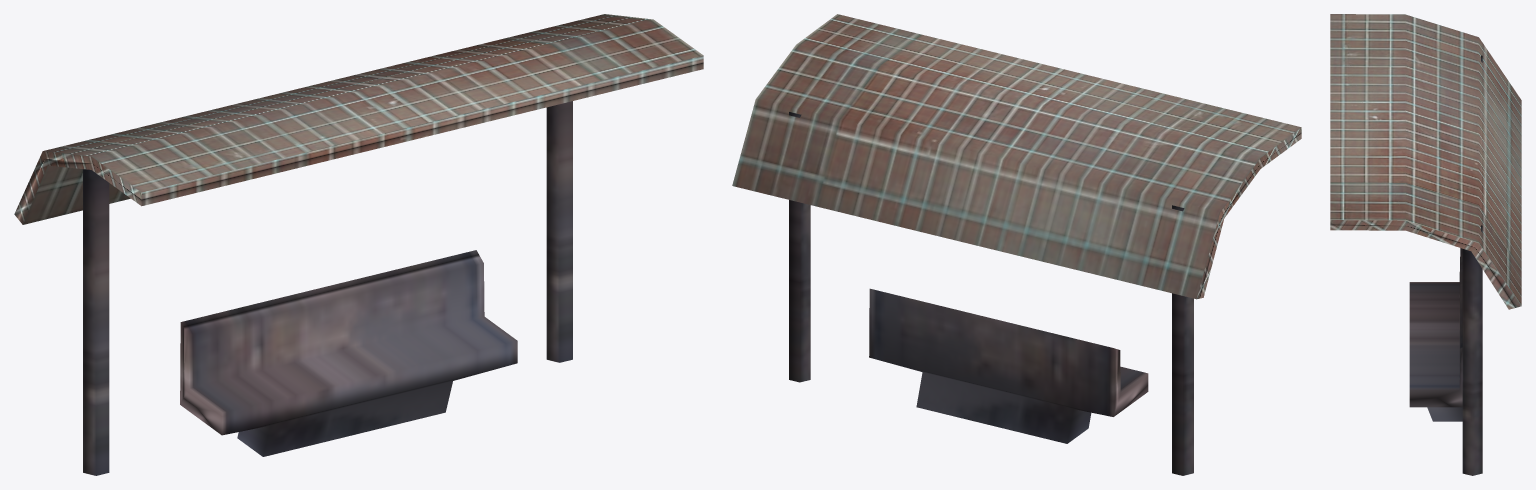
File: busstop.fbx
The picture shows the model from 3 angles, left to right: view 1: azimuth 30°, elevation 25°; view 2: azimuth 150°, elevation 25°; view 3: azimuth 270°, elevation 25°; orthographic projection. The views are drawn at different scales.
Visible parts, largest first — view 1: busstop; view 2: busstop; view 3: busstop.
Part boxes in pixels (bbox=[...]): busstop: bbox=[14, 14, 703, 475]; busstop: bbox=[732, 14, 1301, 475]; busstop: bbox=[1330, 14, 1521, 475].
Size of the model in its own units: 3.64 by 2.23 by 1.43.
Materials: 1 (1 with a texture image).
